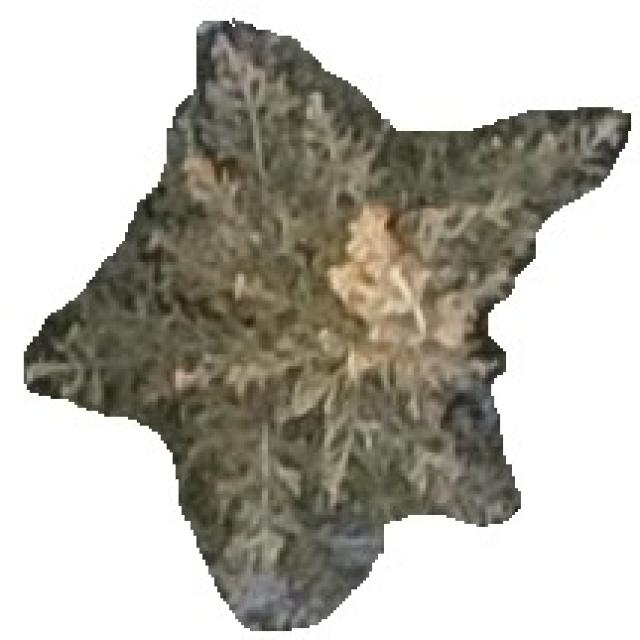spruce: (21, 21, 634, 634)
